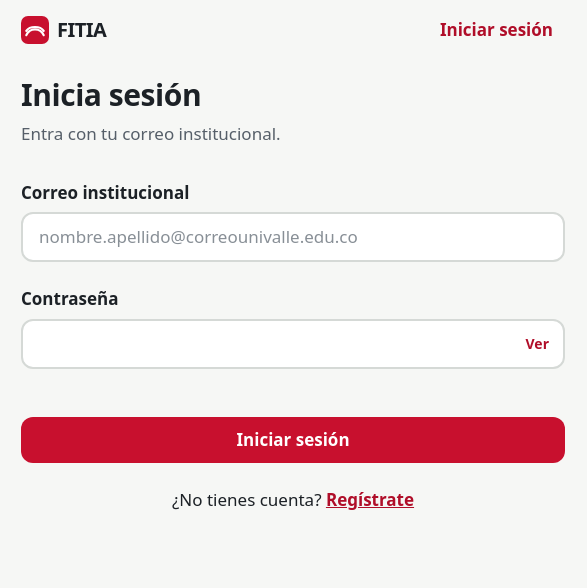
HU 2 — inicio de sesión › INVALID_CREDENTIALS muestra un mensaje genérico sin marcar campos
This screenshot has width=587, height=588.
Type "ana@correounivalle.edu.co" into the field labelled "Correo institucional".
click(293, 237); type("ana@correounivalle.edu.co")  # box [21,212,565,262]
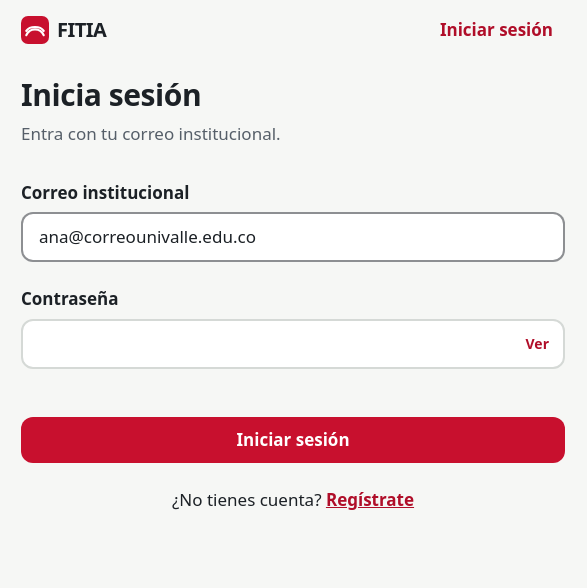
Type "contrasena" into the password field labelled "Contraseña".
click(293, 344); type("contrasena")  # box [21,319,565,369]
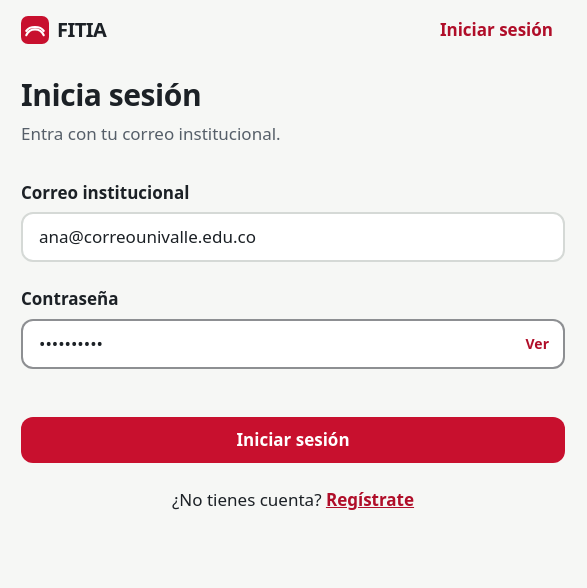
Click the button "Iniciar sesión".
click(293, 440)  # box [21,417,565,463]
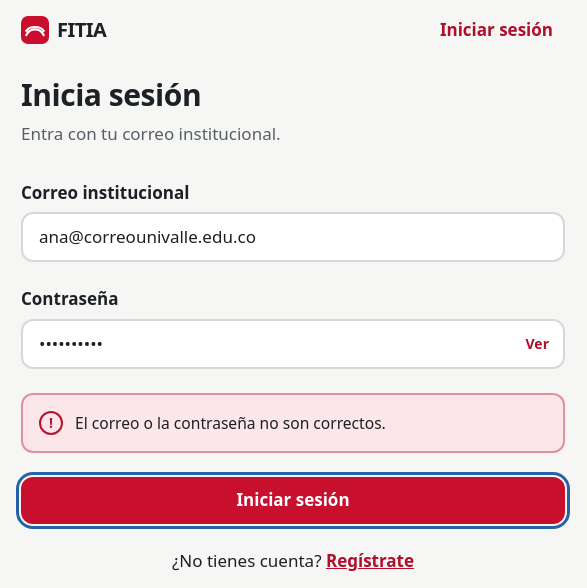
Check: the text "El correo o la contraseña no son correctos." is shown, box [75,412,386,434]
